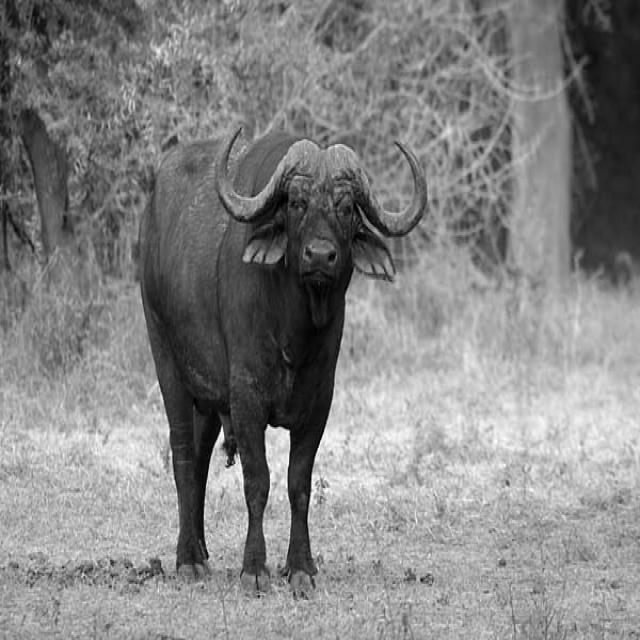Buffalo: (136, 128, 429, 597)
